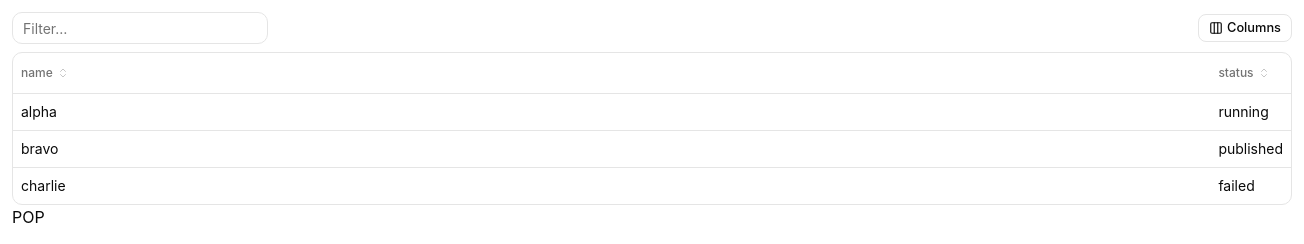
Test case: DataTable › pushes a history entry when sorting, so Back undoes it
Click the button "name" at (45, 73), box 21,65 -> 69,81
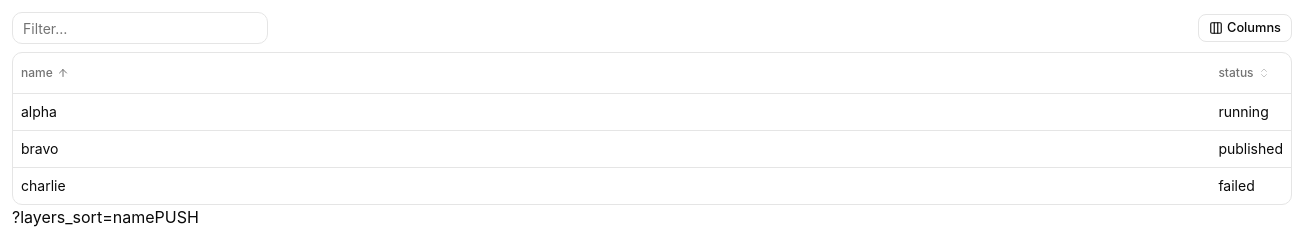
Now the text with test id "nav-type" reads "PUSH", box 154,206 -> 199,226
